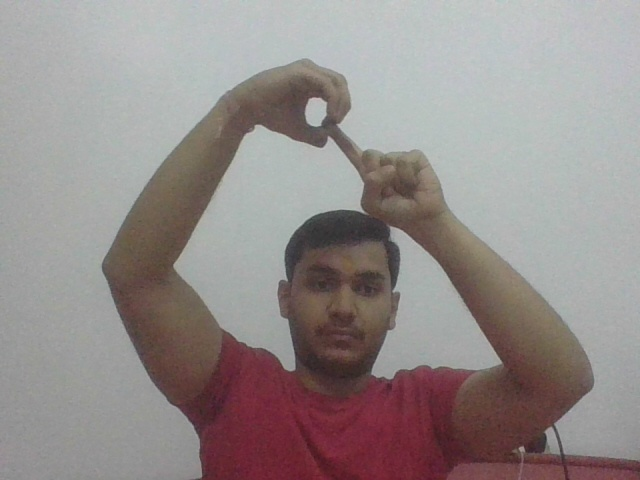Q: (268, 57, 410, 208)
